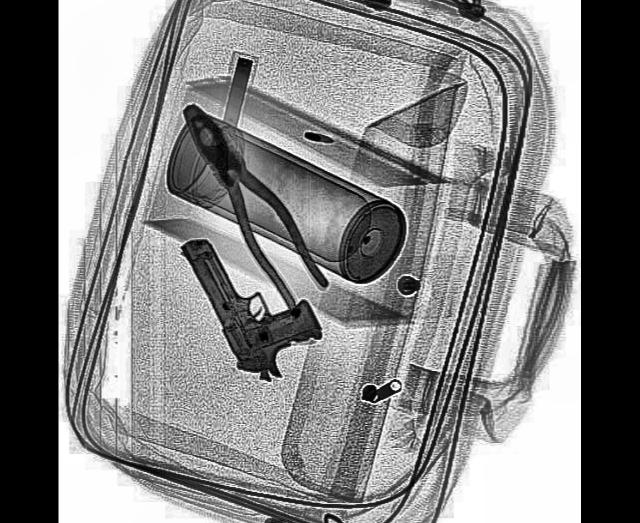Gun: (180, 181, 328, 400)
Pliers: (170, 83, 334, 320)
